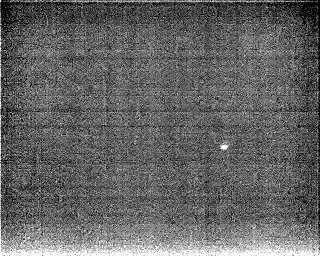AIRPLANE: (219, 142, 230, 152)
